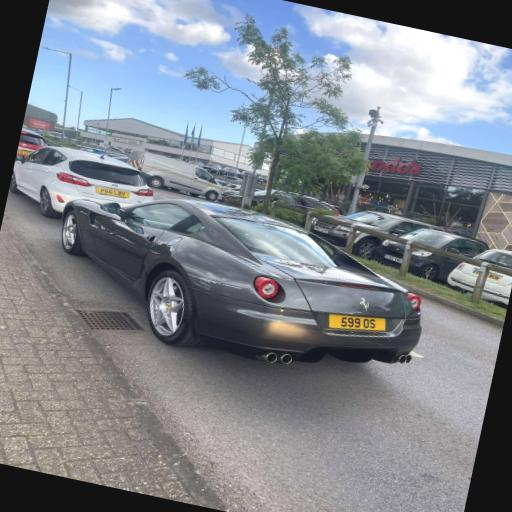numberplates: (329, 315, 386, 331), (96, 187, 130, 198), (384, 254, 402, 264), (17, 149, 32, 156), (487, 273, 502, 280), (314, 226, 328, 233)
